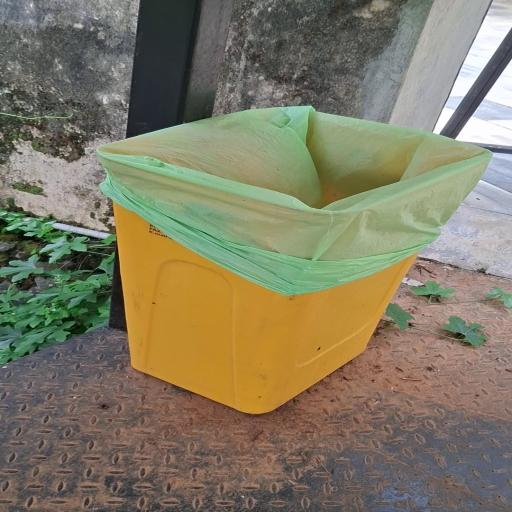Nilkamal-dustbin-detection: (99, 107, 490, 413)
